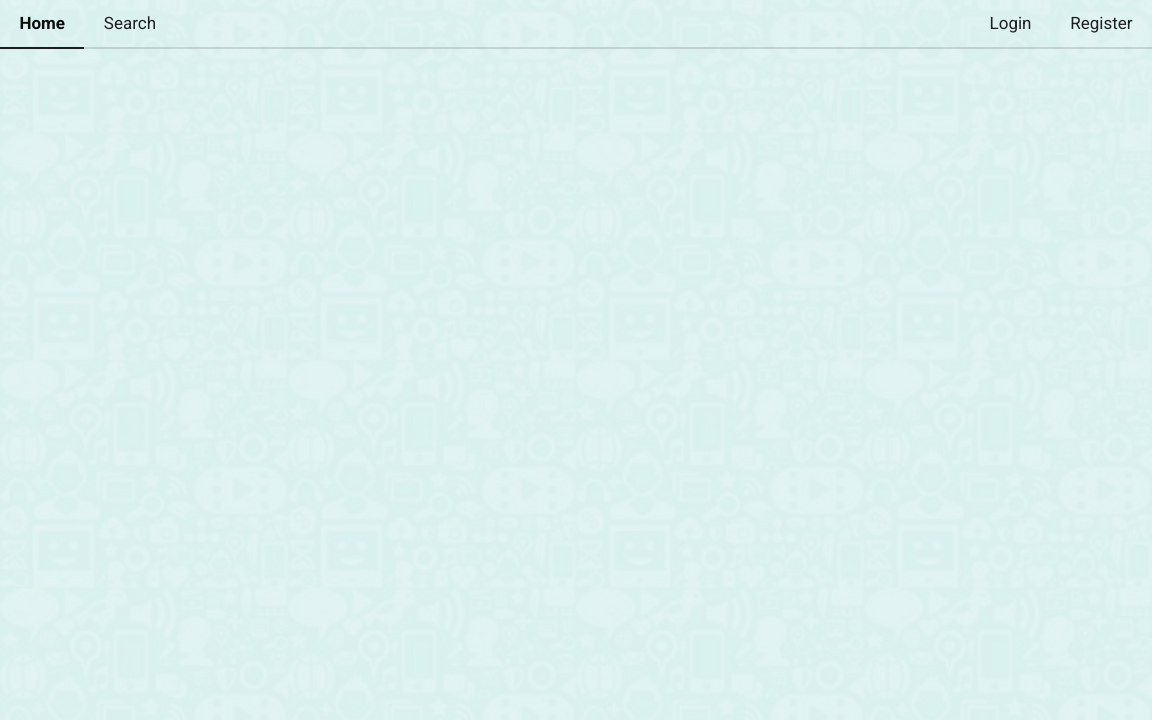
Test case: Register › Should fail register due to empty fields in form
Step 1. Click the link "Register" → (1101, 23), box x1=1070 y1=13 x2=1132 y2=33
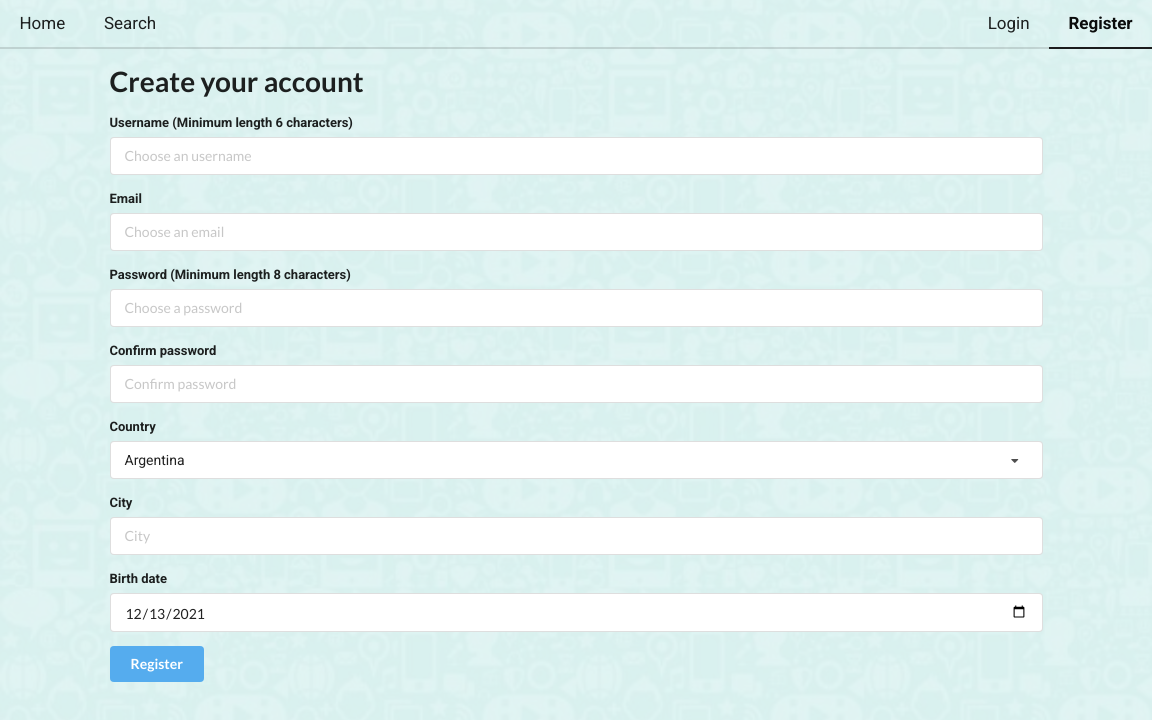
Expected: the link "Register" is shown, x1=1049 y1=0 x2=1151 y2=48
Step 2. Click the button "Register" → (157, 664), box x1=110 y1=646 x2=204 y2=682
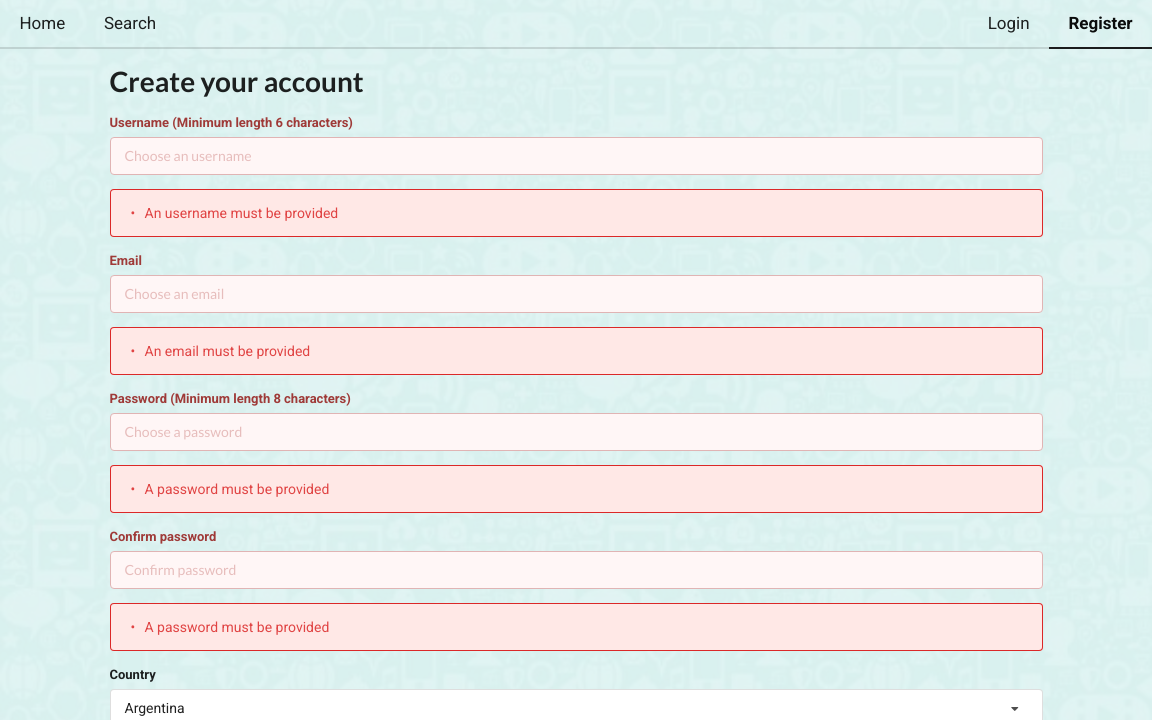
Expected: the list item "An username must be provided" is shown, x1=144 y1=205 x2=338 y2=221
Expected: the list item "An email must be provided" is shown, x1=144 y1=343 x2=310 y2=359
Expected: the 1st list item "A password must be provided" is shown, x1=144 y1=481 x2=329 y2=497
